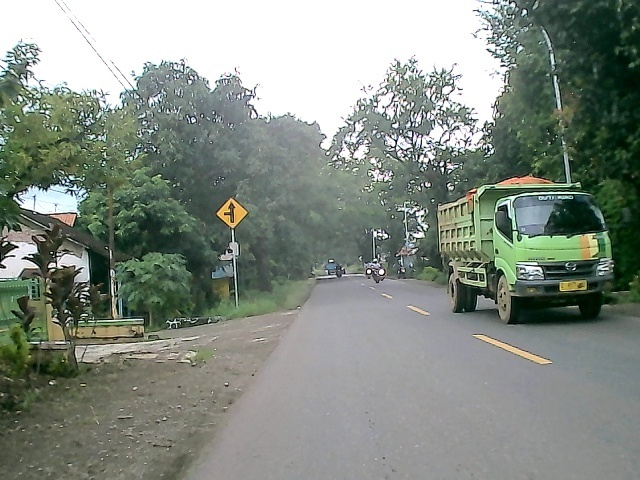Simpang kiri dengan prioritas: (215, 197, 249, 229)
